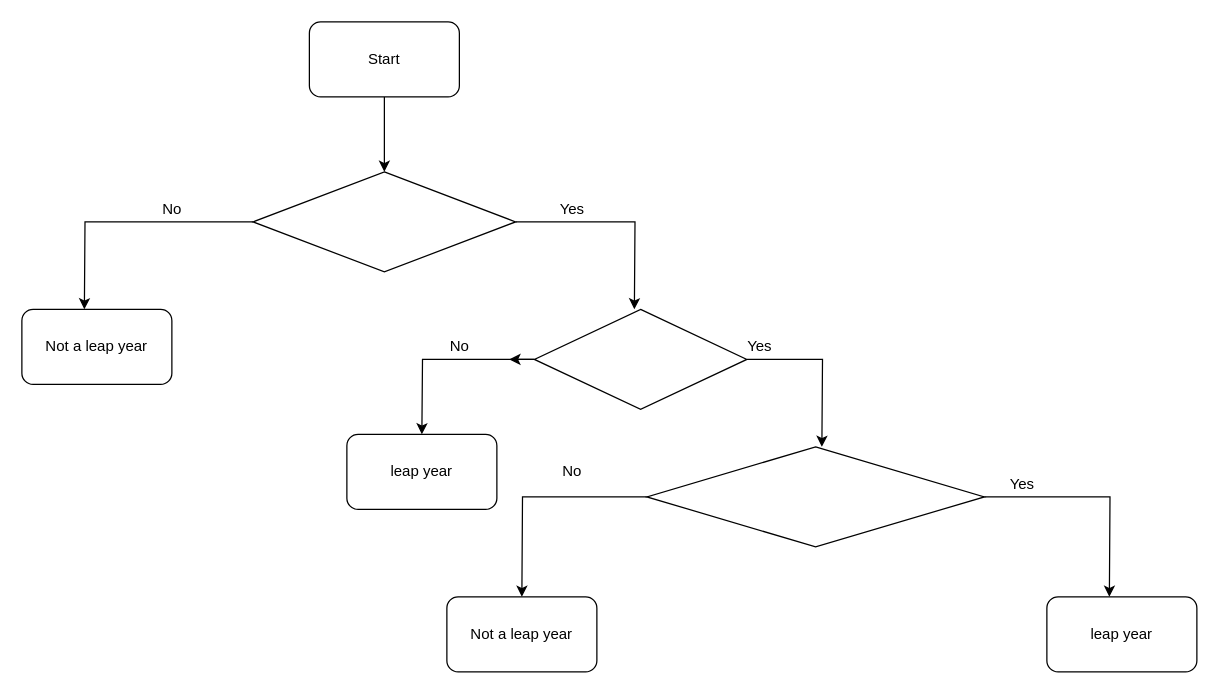
Some shapes in this 1219 by 694 pixel diagram are drawn without their labels. Each missing label, with the centre of its shape:
if year is evenly divided by 400?: (x=815, y=496)
if year is evenly divided by 4?: (x=384, y=221)
if year is evenly dividied by 100?: (x=640, y=358)
